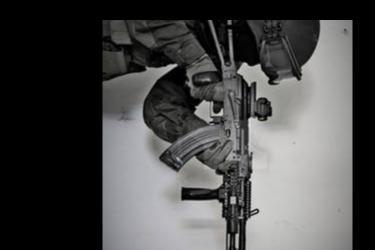larga: (157, 20, 273, 250)
